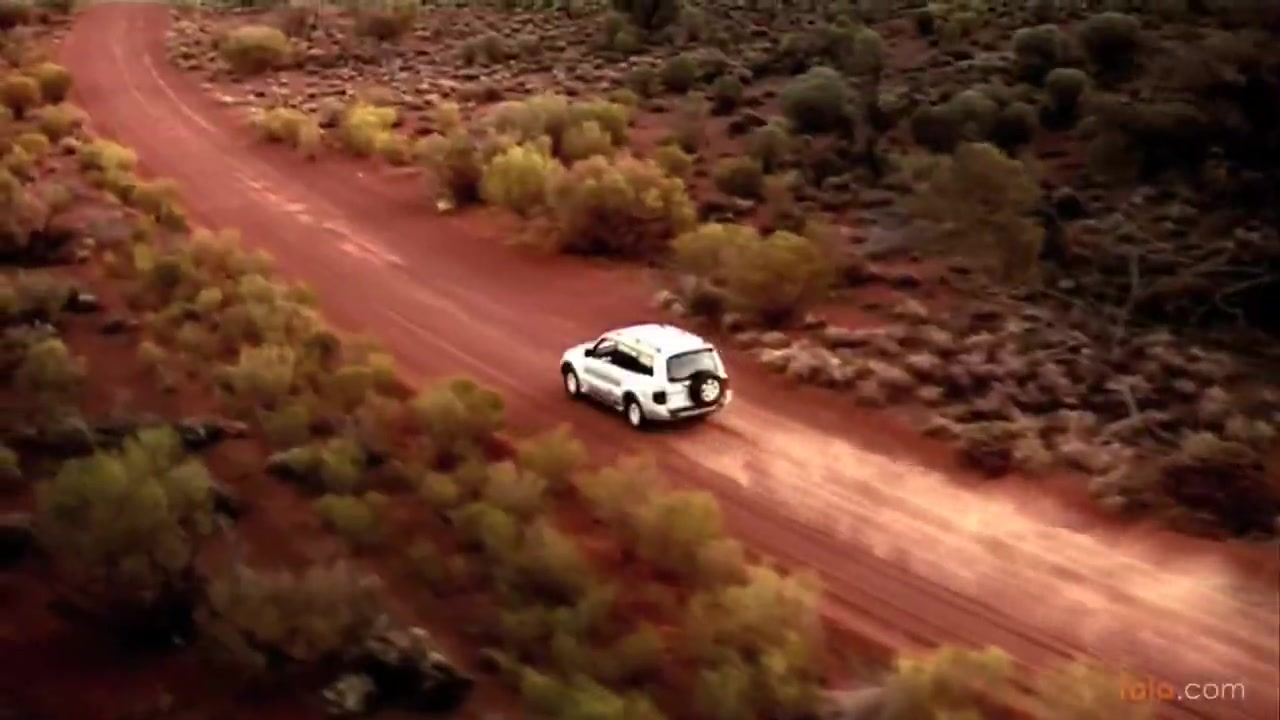car: (557, 321, 732, 430)
